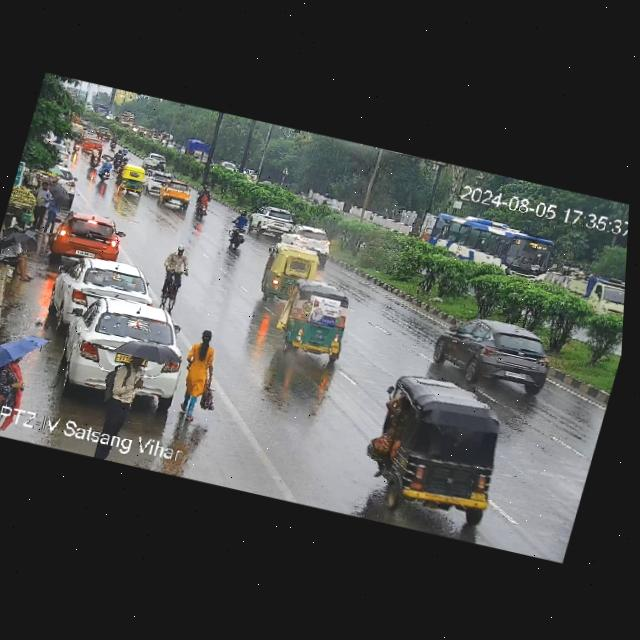bus: (410, 207, 564, 288)
car: (351, 365, 523, 526), (51, 290, 184, 390), (430, 309, 566, 398), (49, 249, 160, 332), (44, 206, 125, 269), (248, 202, 302, 240), (33, 163, 82, 197), (155, 177, 197, 212), (116, 164, 148, 197), (145, 167, 177, 192), (82, 133, 102, 153), (142, 151, 159, 167)
motorcycle: (220, 207, 258, 251), (91, 124, 122, 145), (193, 188, 213, 220), (98, 154, 116, 182), (87, 144, 102, 168), (68, 134, 84, 154), (110, 149, 123, 168), (120, 142, 132, 157), (154, 157, 165, 170), (198, 182, 207, 193), (122, 155, 131, 166)
person: (99, 344, 157, 434), (173, 327, 225, 417), (151, 240, 198, 306), (0, 225, 47, 286), (0, 348, 31, 404), (25, 178, 52, 229), (39, 193, 64, 231)
truck: (259, 270, 359, 366), (554, 267, 626, 323)
